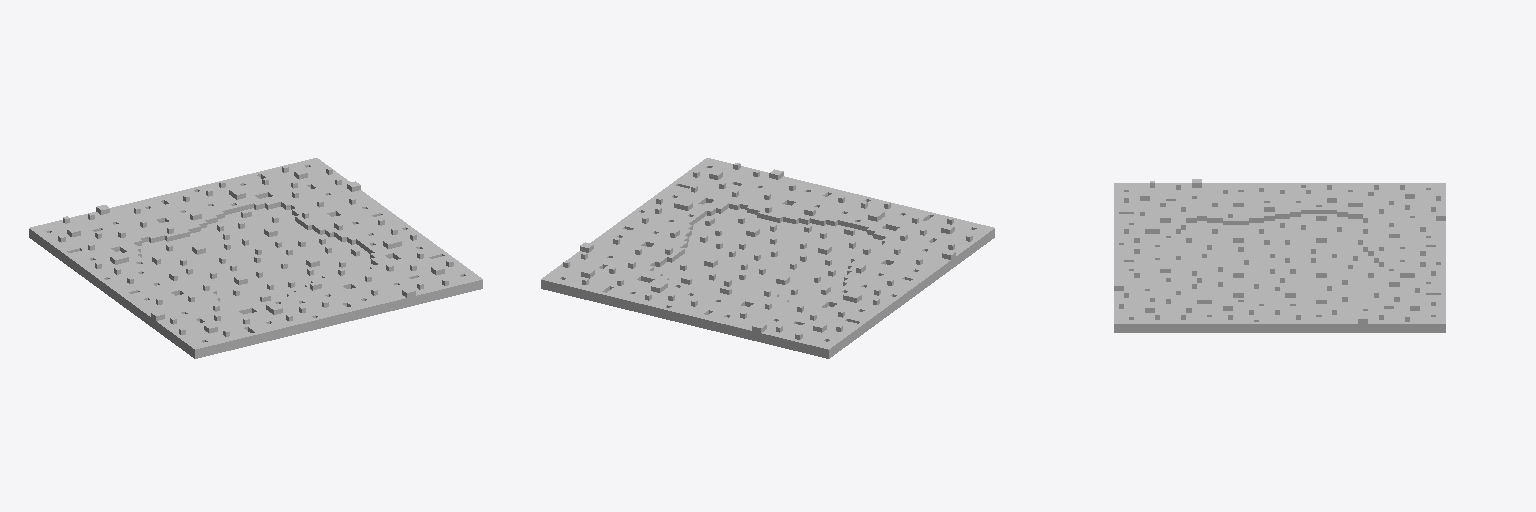
Rendered from Ground_2.obj.
The picture shows the model from 3 angles: view 1: azimuth 30°, elevation 25°; view 2: azimuth 150°, elevation 25°; view 3: azimuth 270°, elevation 25°; orthographic projection.
Parts seen in each view (by area): view 1: Ground_2; view 2: Ground_2; view 3: Ground_2.
Boxes of the visible parts, box(x1,y1,x2,y2) form: Ground_2: box(29, 158, 482, 358); Ground_2: box(541, 158, 994, 358); Ground_2: box(1114, 179, 1445, 332).
Bounding box in the file's own units: 1 × 0.0469 × 1.